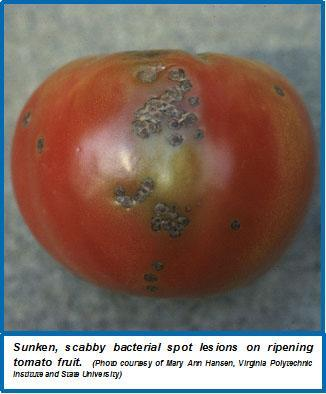tomato bacterial spot: (17, 50, 319, 301)
